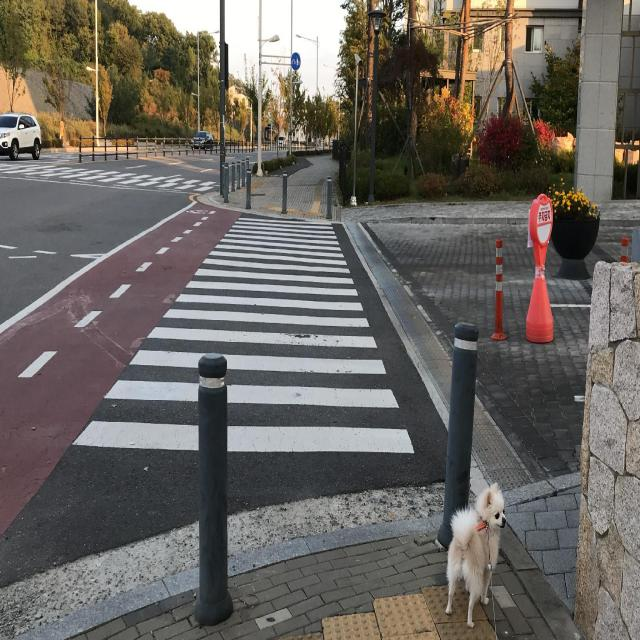횡단보도: (69, 216, 416, 460), (0, 164, 230, 193)
